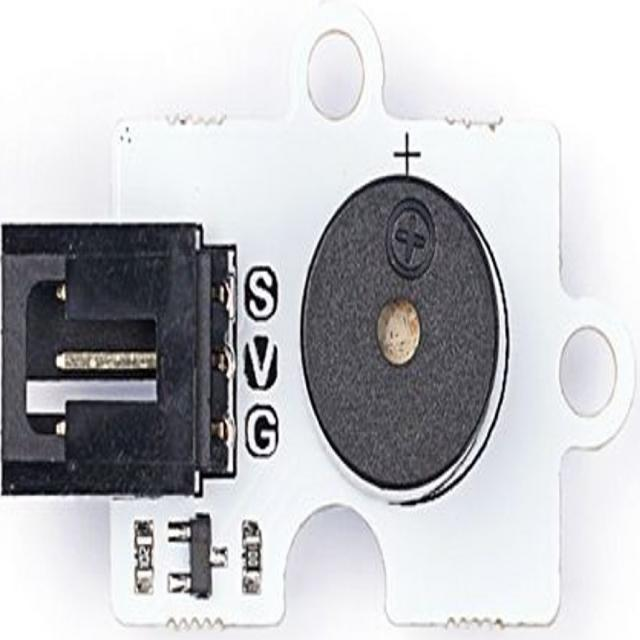4439: (174, 508, 218, 608)
buzzer: (300, 157, 510, 507)
connector -5v-: (0, 223, 238, 494)
resistor IR1: (129, 517, 155, 607), (243, 527, 261, 594)
